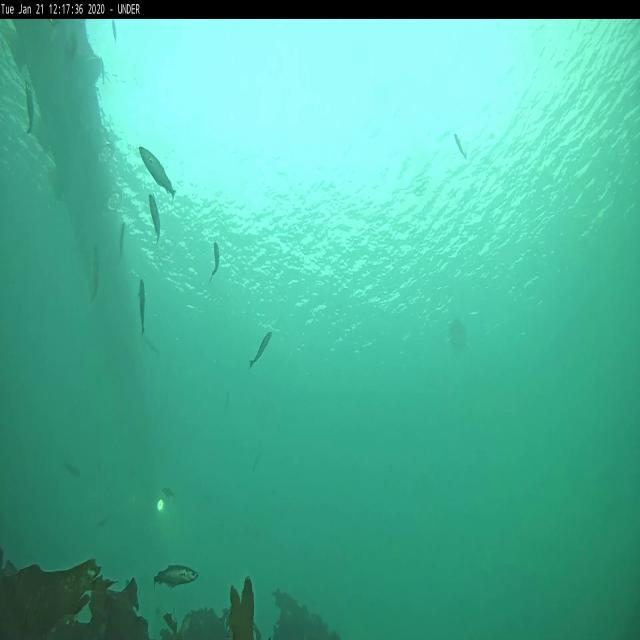fish: (138, 144, 176, 200), (248, 328, 276, 367), (154, 566, 201, 588), (146, 188, 163, 240), (89, 242, 101, 298), (24, 84, 34, 140), (115, 221, 128, 260), (208, 240, 222, 276), (142, 331, 160, 358), (138, 282, 148, 330), (64, 460, 81, 486), (454, 134, 468, 160), (163, 484, 179, 504), (93, 514, 112, 530), (252, 453, 264, 476), (109, 22, 120, 44)
